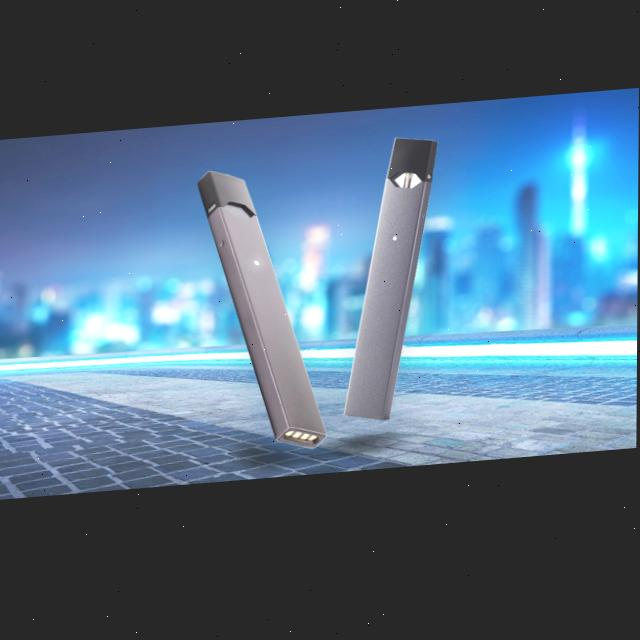vape: (195, 166, 329, 464), (344, 140, 439, 431)
